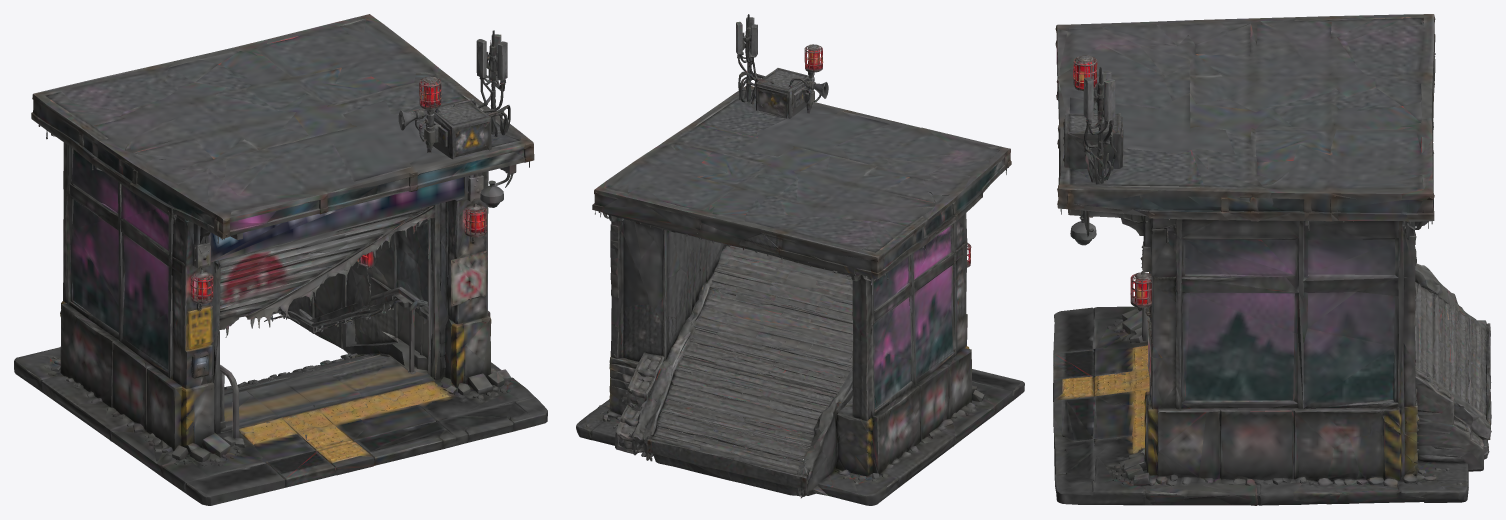
File: subway-entrance.glb
3 renders of one model, left to right at view 1: azimuth 30°, elevation 25°; view 2: azimuth 150°, elevation 25°; view 3: azimuth 270°, elevation 25°, orthographic. The views are drawn at different scales.
Parts seen in each view (by area): view 1: output_unwrapped; view 2: output_unwrapped; view 3: output_unwrapped.
Part boxes in pixels (x1,y1,x2,y2): output_unwrapped: (14,14,547,505); output_unwrapped: (576,14,1024,505); output_unwrapped: (1053,14,1491,505).
Bounding box in the file's own units: 1.85 × 1.9 × 1.81.
Materials: 1 (1 with a texture image).
